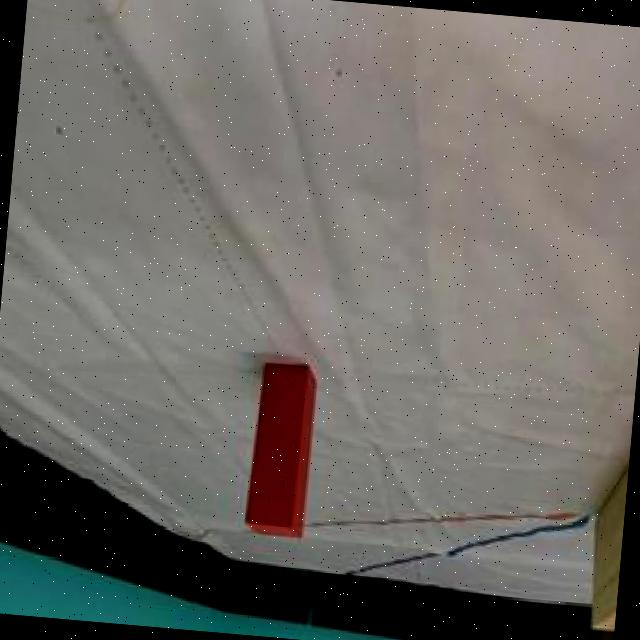redbox: (244, 358, 320, 540)
